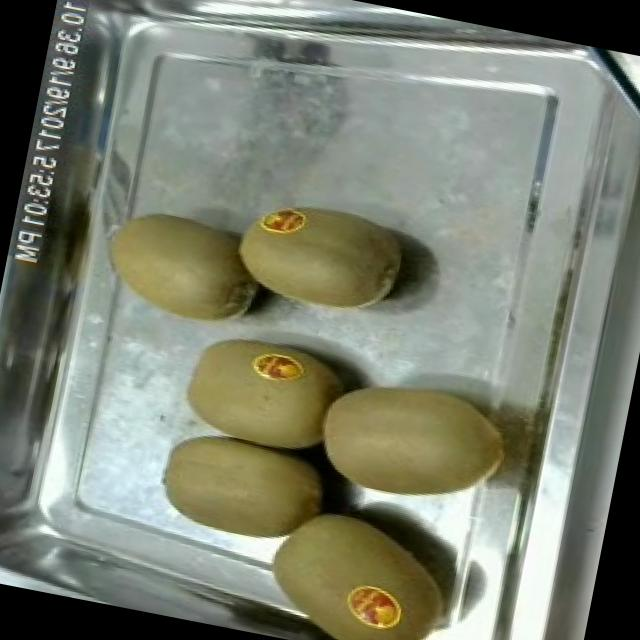Fruit: (300, 356, 523, 528), (218, 180, 419, 332), (244, 487, 443, 640), (142, 424, 341, 567), (170, 319, 364, 461), (102, 198, 277, 342)
